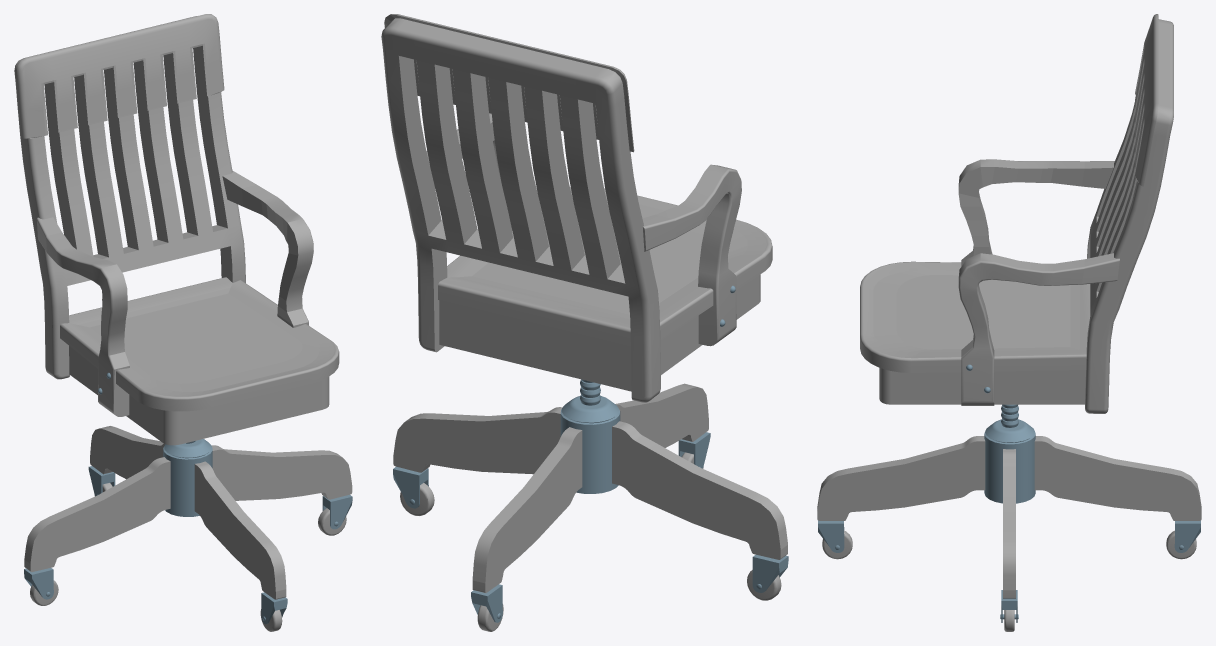
File: OCor_Chair.fbx
The picture shows the model from 3 angles, left to right: view 1: azimuth 30°, elevation 25°; view 2: azimuth 150°, elevation 25°; view 3: azimuth 270°, elevation 25°; orthographic projection. The views are drawn at different scales.
Visible parts, largest first — view 1: OCor_Chair1; view 2: OCor_Chair1; view 3: OCor_Chair1.
Boxes of the visible parts, x1,y1,x2,y2 form: OCor_Chair1: [14, 14, 352, 631]; OCor_Chair1: [381, 14, 788, 631]; OCor_Chair1: [817, 14, 1201, 631].
Bounding box in the file's own units: 6.23 × 8.9 × 6.23.
